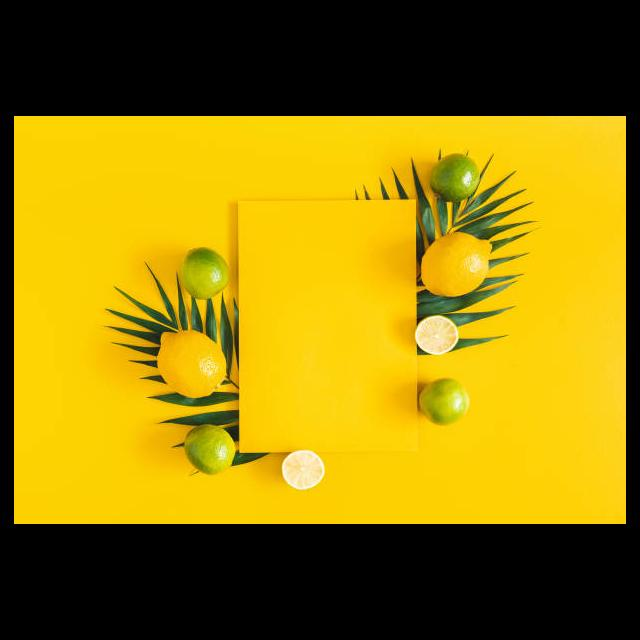lime: (173, 239, 234, 304), (422, 149, 490, 206), (179, 418, 238, 479), (413, 373, 476, 430)
